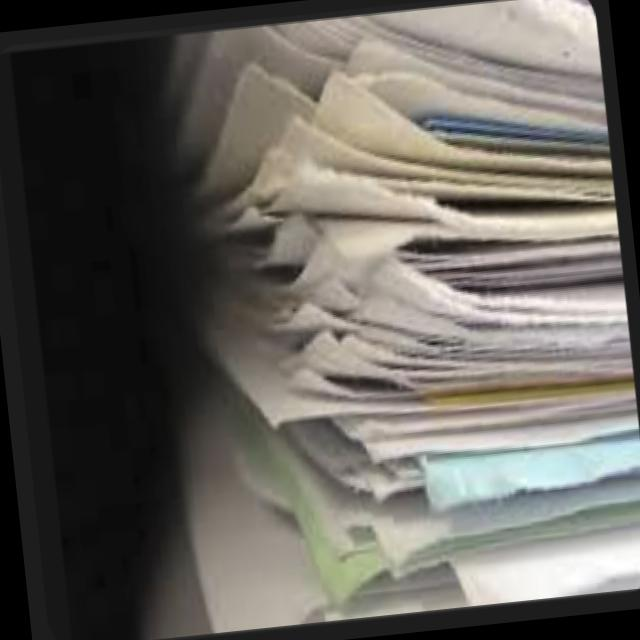KertasBekas: (159, 0, 640, 624)
